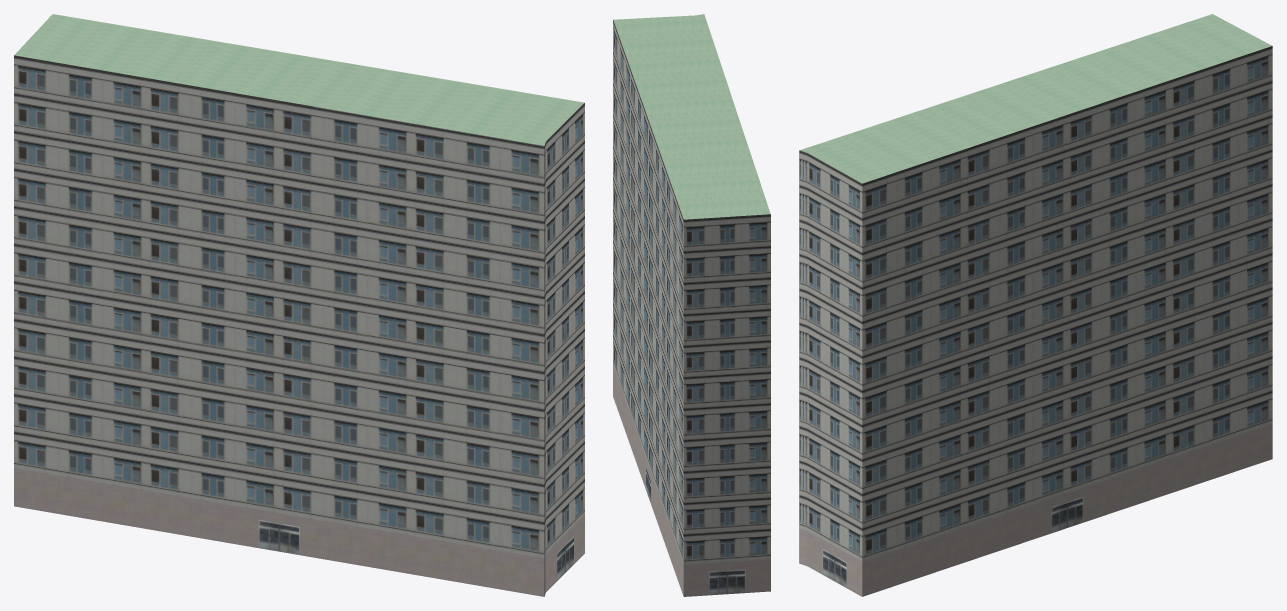
3 views of the same model, side by side, from view 1: azimuth 30°, elevation 25°; view 2: azimuth 150°, elevation 25°; view 3: azimuth 270°, elevation 25° (orthographic). The views are drawn at different scales.
Visible parts, largest first — view 1: BuildingMaster_1982193849764463916000000000_0, BuildingMaster_1982193849764463916000000000_1; view 2: BuildingMaster_1982193849764463916000000000_0, BuildingMaster_1982193849764463916000000000_1; view 3: BuildingMaster_1982193849764463916000000000_0, BuildingMaster_1982193849764463916000000000_1.
Boxes of the visible parts, x1,y1,x2,y2 form: BuildingMaster_1982193849764463916000000000_0: (14, 55, 584, 596); BuildingMaster_1982193849764463916000000000_1: (14, 14, 584, 145); BuildingMaster_1982193849764463916000000000_0: (613, 20, 770, 596); BuildingMaster_1982193849764463916000000000_1: (613, 14, 770, 219); BuildingMaster_1982193849764463916000000000_0: (799, 46, 1272, 596); BuildingMaster_1982193849764463916000000000_1: (800, 14, 1271, 183).
Bounding box in the file's own units: 37 × 42 × 43.58.
Materials: 2 (2 with a texture image).
